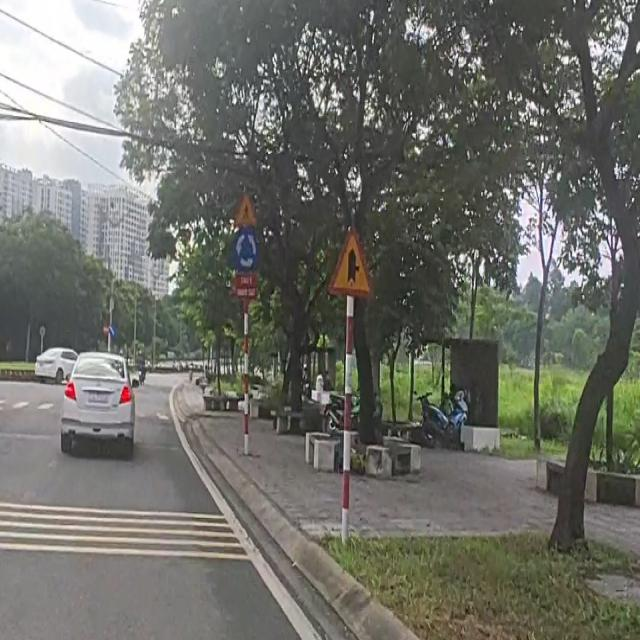Bien bao duong nguoi di bo cat ngang: (236, 188, 260, 226)
Bien bao giao nhau voi duong khong uu tien: (330, 223, 373, 306)
